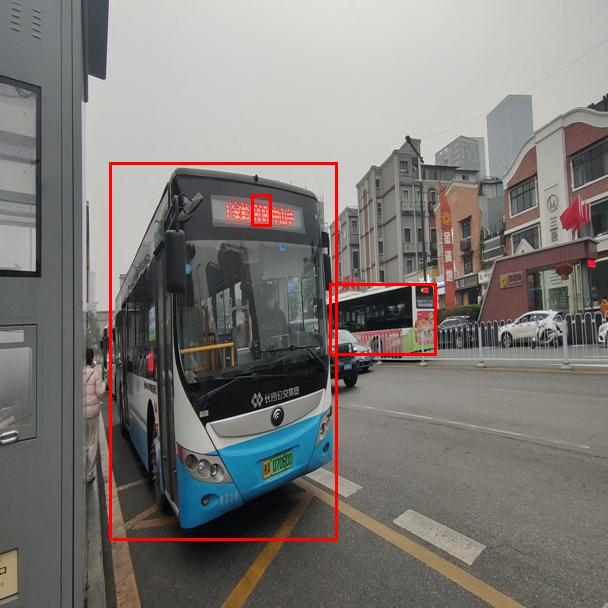bus: (109, 162, 337, 540), (329, 283, 436, 355)
screen: (251, 194, 271, 226)
